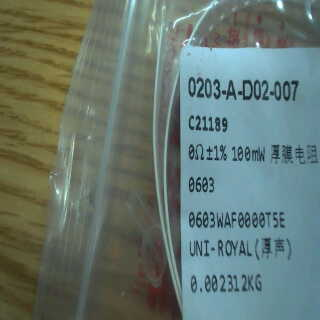0R: (185, 141, 269, 201)
